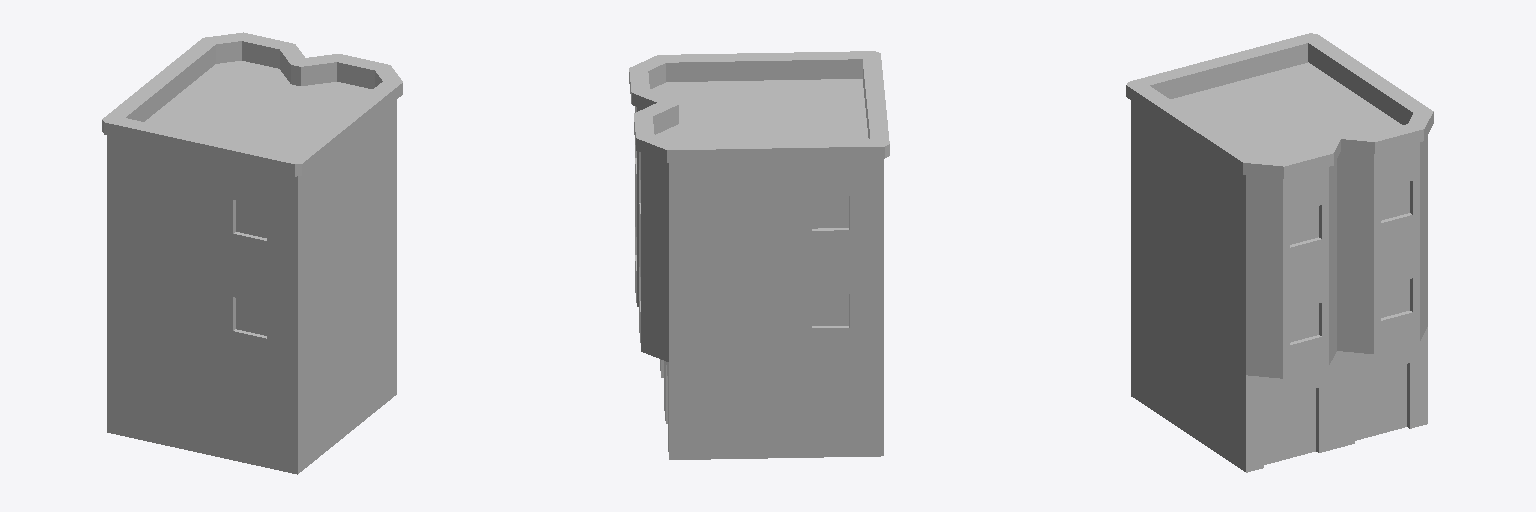
File: variant_42.obj
3 views of the same model, side by side, from view 1: azimuth 30°, elevation 25°; view 2: azimuth 150°, elevation 25°; view 3: azimuth 270°, elevation 25° (orthographic).
Visible parts, largest first — view 1: small_buildingA; view 2: small_buildingA; view 3: small_buildingA.
Part boxes in pixels (left/top/right/bottom): small_buildingA: left=102, top=32, right=402, bottom=474; small_buildingA: left=629, top=51, right=889, bottom=459; small_buildingA: left=1126, top=33, right=1433, bottom=472.
Bounding box in the file's own units: 1.17 × 1.28 × 1.14.